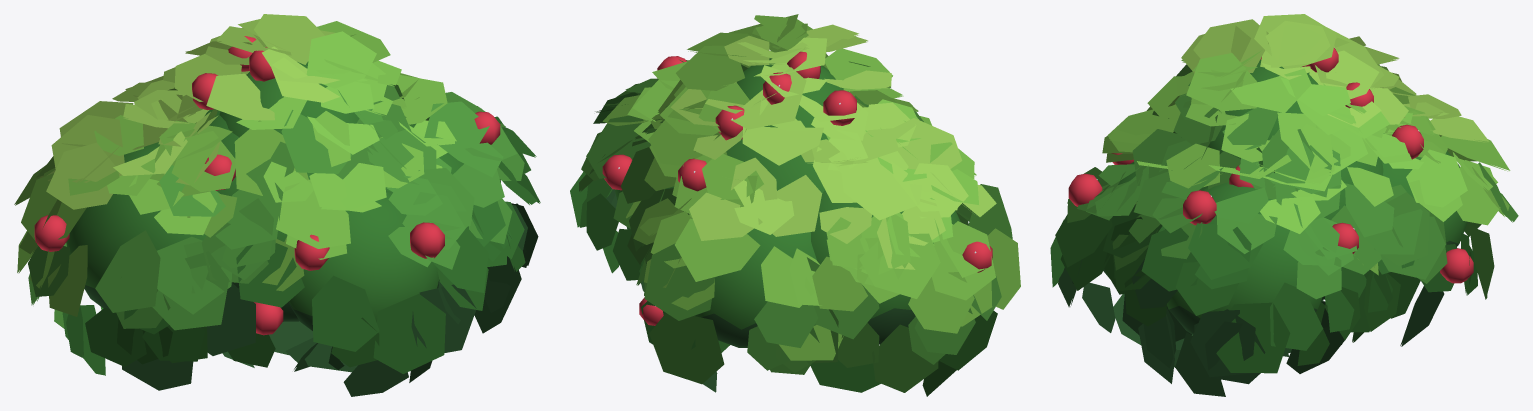
The model's file is BushBerry.glb.
3 views of the same model, side by side, from view 1: azimuth 30°, elevation 25°; view 2: azimuth 150°, elevation 25°; view 3: azimuth 270°, elevation 25° (orthographic). The views are drawn at different scales.
Parts seen in each view (by area): view 1: Sway; view 2: Sway; view 3: Sway.
Boxes of the visible parts, box(x1,y1,x2,y2) form: Sway: box(14, 14, 540, 396); Sway: box(570, 14, 1020, 396); Sway: box(1050, 14, 1518, 396).
Size of the model in its own units: 4.68 by 3.27 by 4.4.
Materials: 1 (1 with a texture image).
